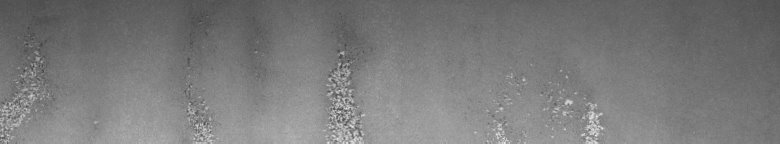hc: (323, 44, 366, 136)
